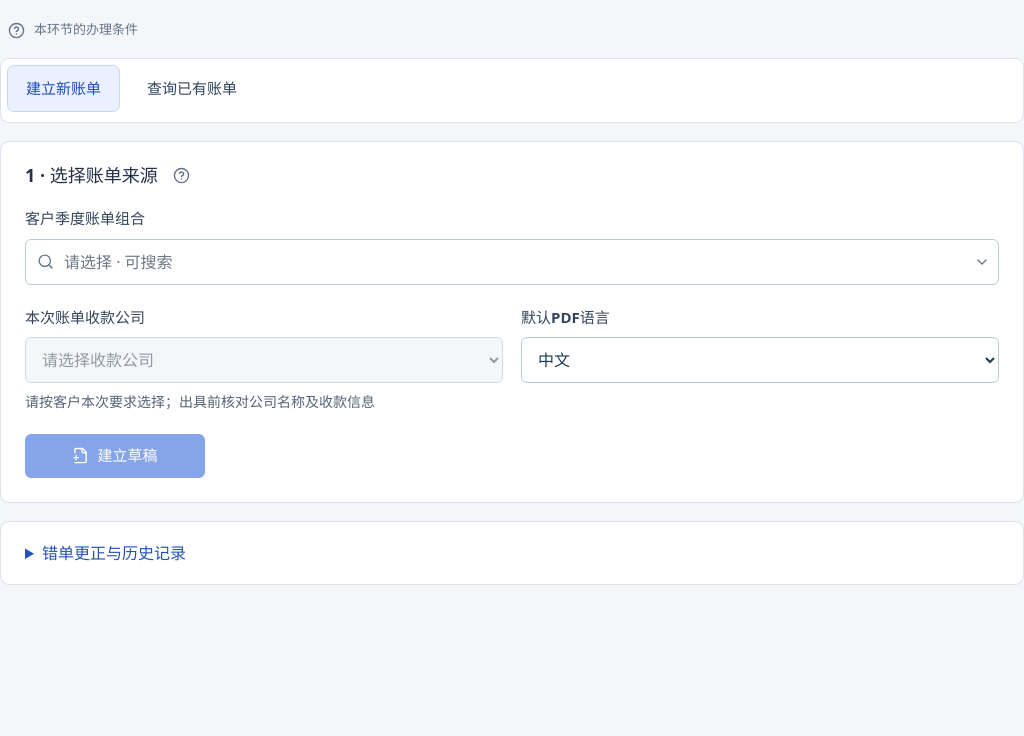
it: 切换账单客户后重新选择收款公司，不沿用上一位客户的选择
The width and height of the screenshot is (1024, 736).
Focus the dropdown named "客户季度账单组合" at (512, 262), box [25,238,999,284]
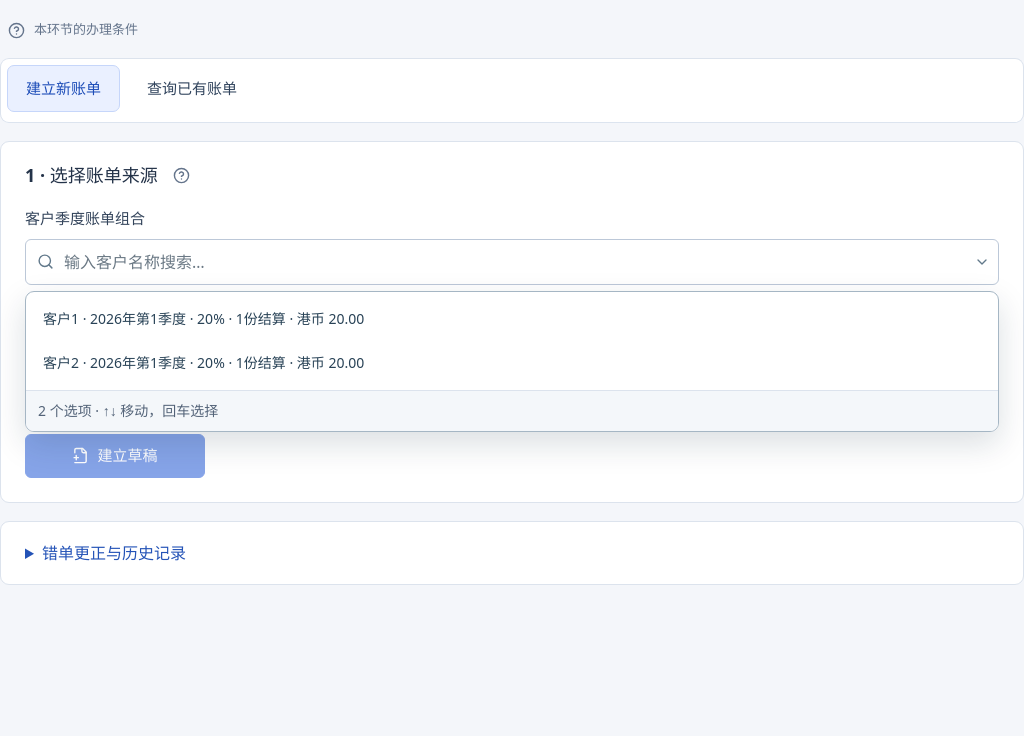
Click the option "客户1 · 2026年第1季度 · 20% · 1份结算 · 港币 20.00".
click(204, 318)  # box [43,309,364,328]
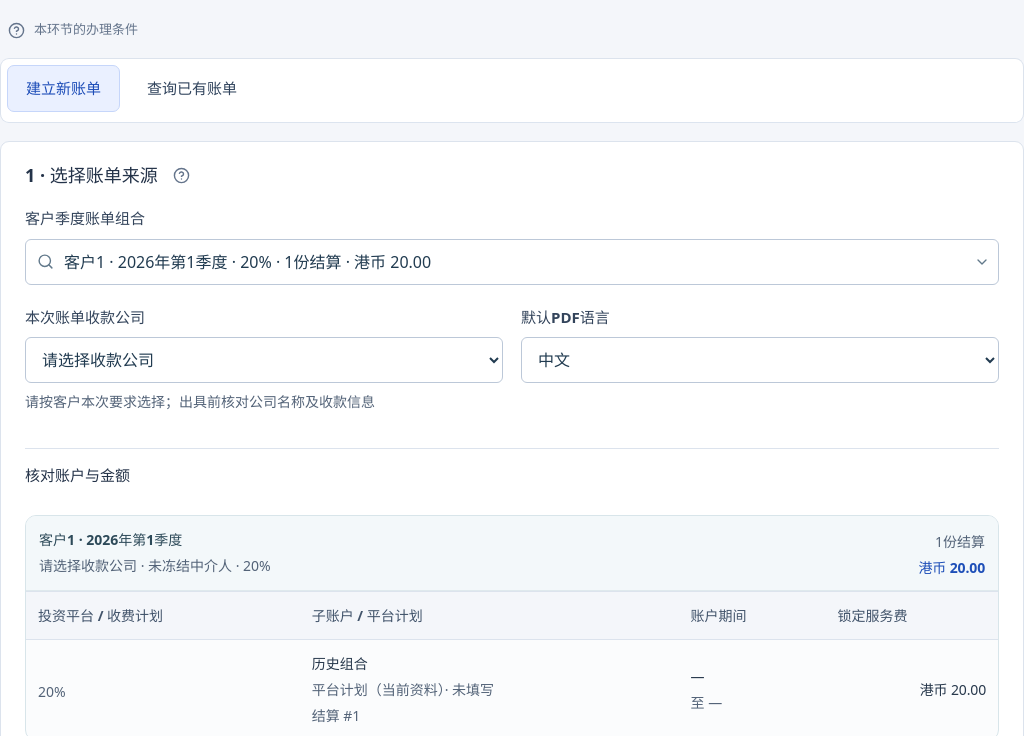
Select "收款乙" in the dropdown labelled "本次账单收款公司 请按客户本次要求选择；出具前核对公司名称及收款信息" at (264, 360), box [25,337,503,383]
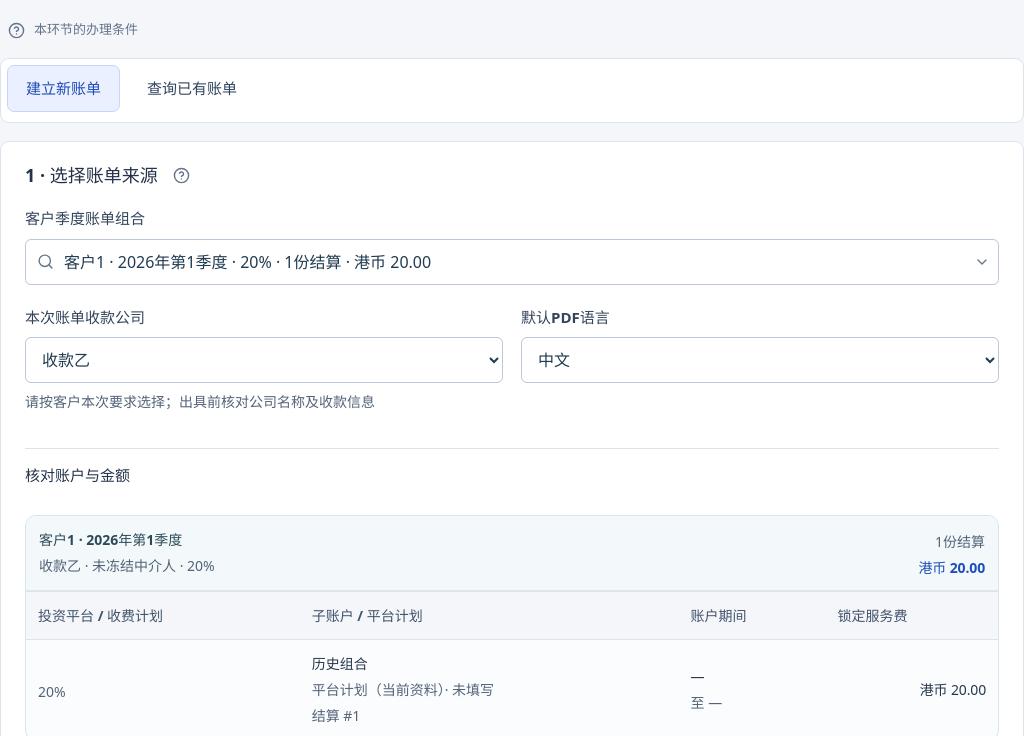
Replace the text in the dropdown named "客户季度账单组合" with "客户2" at (512, 262), box [25,238,999,284]
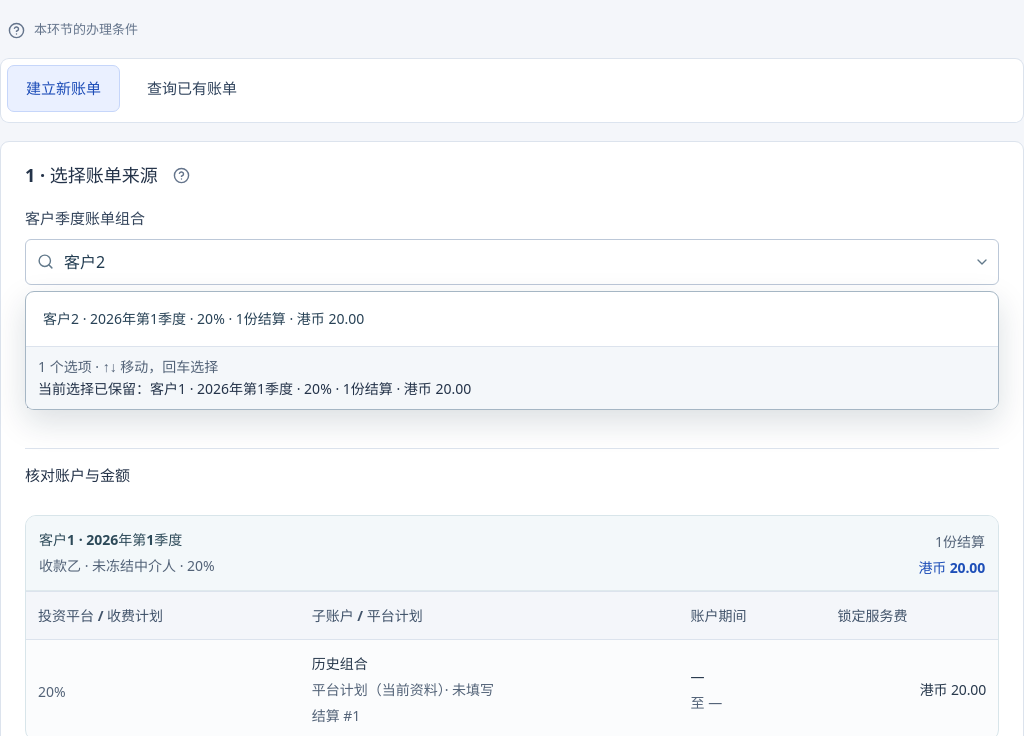
Click the option "客户2 · 2026年第1季度 · 20% · 1份结算 · 港币 20.00".
click(204, 318)  # box [43,309,364,328]
(page scrolled)
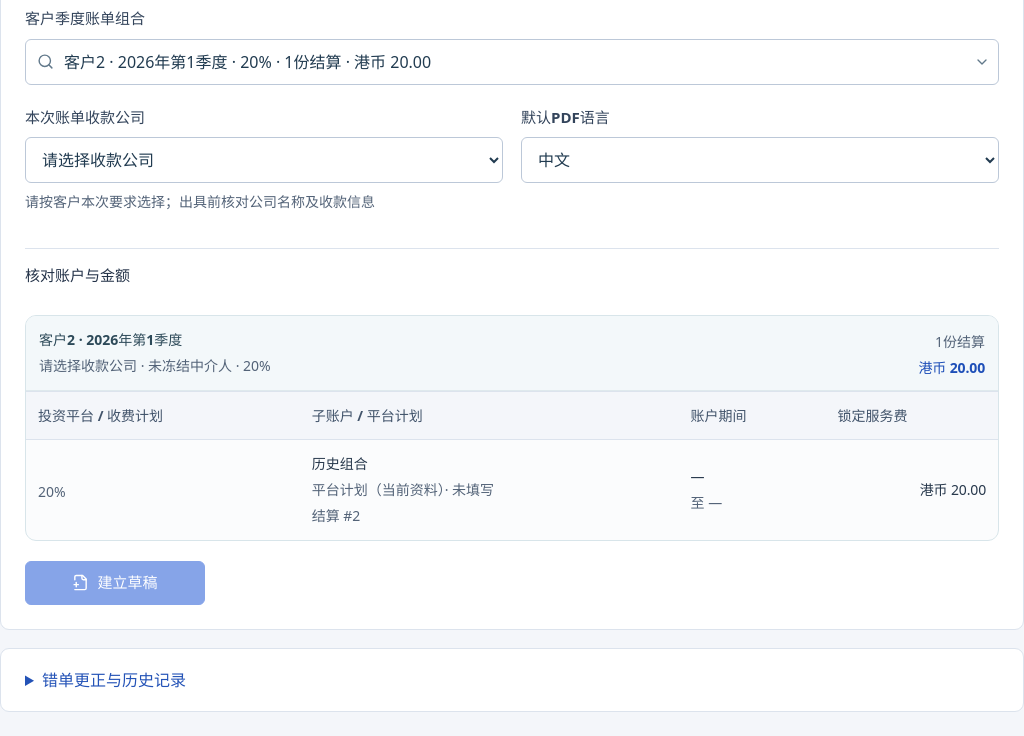
expect the button "建立草稿" is disabled: met, box [25,561,205,605]
